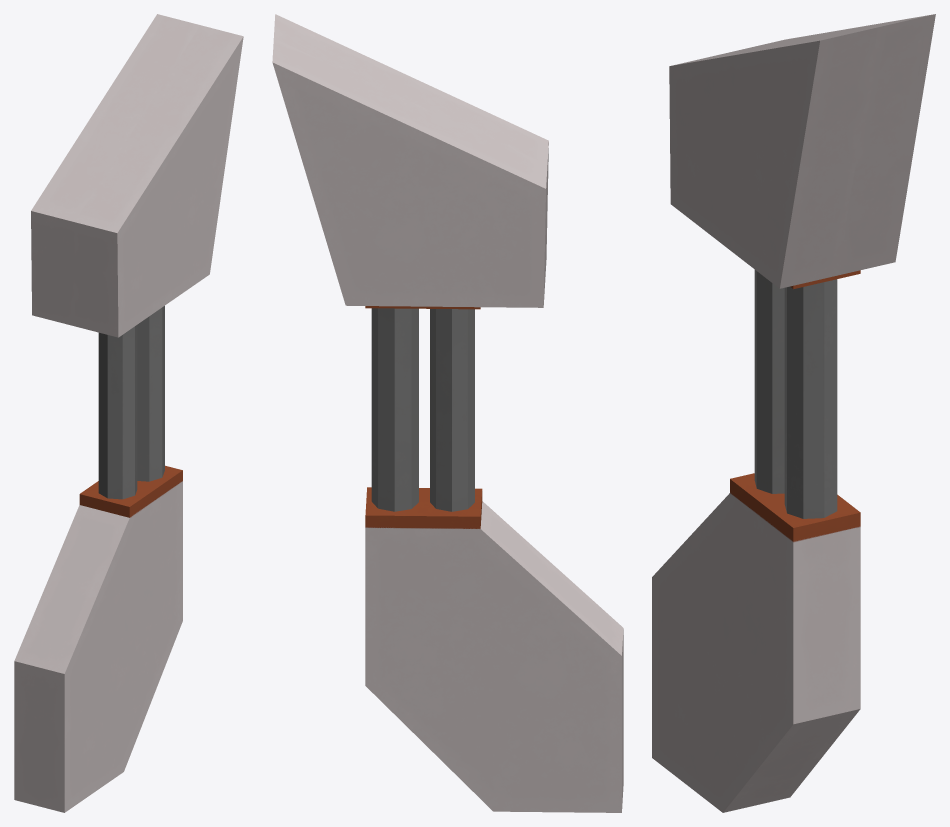
3 renders of one model, left to right at view 1: azimuth 30°, elevation 25°; view 2: azimuth 150°, elevation 25°; view 3: azimuth 270°, elevation 25°, orthographic. The views are drawn at different scales.
Parts seen in each view (by area): view 1: pillar2; view 2: pillar2; view 3: pillar2.
Boxes of the visible parts, x1,y1,x2,y2 form: pillar2: [14, 14, 243, 812]; pillar2: [272, 14, 623, 812]; pillar2: [652, 14, 935, 812].
Bounding box in the file's own units: 1.29 × 3.08 × 0.9075.
Materials: 1 (1 with a texture image).
